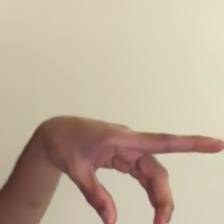Q: (13, 101, 224, 224)
